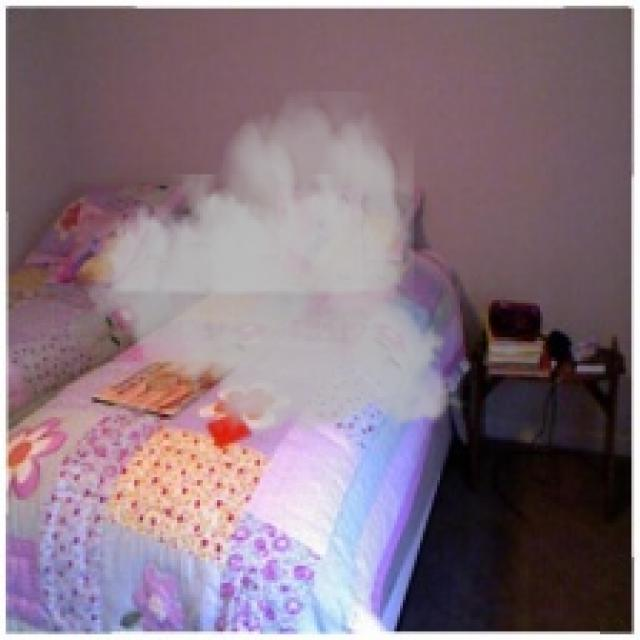Smoke: (74, 91, 474, 448)
